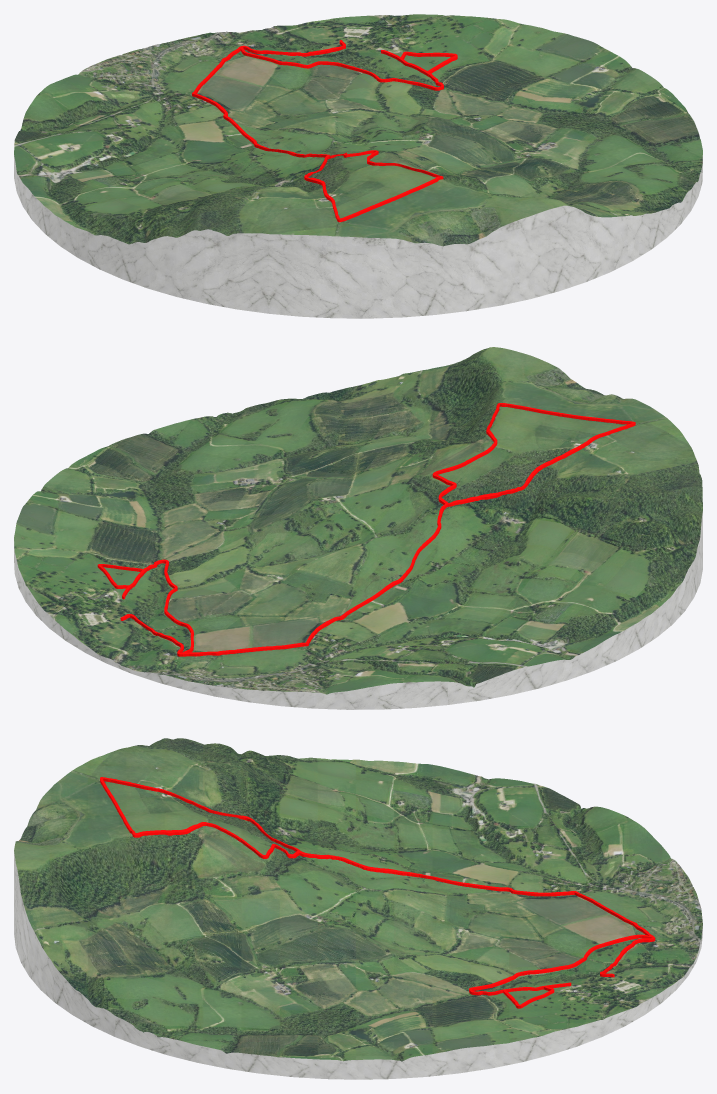
The model's file is exmue0bj04w6h7.glb.
The picture shows the model from 3 angles, top to bottom: view 1: azimuth 30°, elevation 25°; view 2: azimuth 150°, elevation 25°; view 3: azimuth 270°, elevation 25°; orthographic projection.
Visible parts, largest first — view 1: tinMesh, clipSide, track_KRbi8Qnvjo53VhZZASE90_0; view 2: tinMesh, clipSide, track_KRbi8Qnvjo53VhZZASE90_0; view 3: tinMesh, clipSide, track_KRbi8Qnvjo53VhZZASE90_0.
Boxes of the visible parts, box(x1,y1,x2,y2) form: tinMesh: box(14, 14, 702, 246); clipSide: box(14, 155, 702, 318); track_KRbi8Qnvjo53VhZZASE90_0: box(192, 40, 457, 222); tinMesh: box(14, 347, 702, 694); clipSide: box(14, 511, 702, 709); track_KRbi8Qnvjo53VhZZASE90_0: box(97, 403, 635, 656); tinMesh: box(14, 738, 702, 1061); clipSide: box(14, 852, 702, 1079); track_KRbi8Qnvjo53VhZZASE90_0: box(100, 777, 655, 1008).
Bounding box in the file's own units: 3397 × 470 × 3389.
3 materials, 2 textured.
